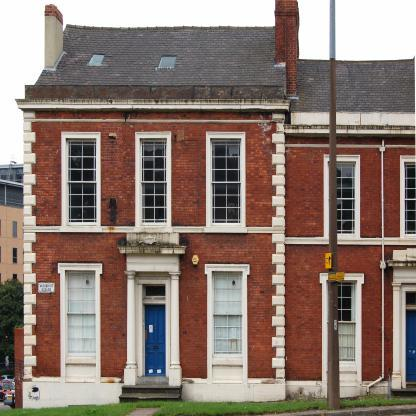Building Outline: (15, 0, 416, 409)
Cornice: (117, 246, 187, 254), (386, 260, 416, 268)
Deco: (38, 282, 55, 293)
Door: (144, 304, 166, 376), (405, 309, 416, 382)
Facade: (45, 59, 415, 402)
Floor: (23, 131, 416, 248)
Floor Slab: (23, 125, 416, 131), (23, 248, 416, 254)
Ground Floor: (23, 255, 416, 386)
Pillar: (168, 271, 182, 386), (124, 271, 137, 385)
Top Floor: (24, 23, 416, 125), (25, 24, 415, 113)
Window: (66, 139, 98, 225), (211, 139, 241, 225), (214, 273, 243, 355), (328, 281, 357, 363), (67, 273, 96, 355), (141, 139, 167, 225), (328, 161, 356, 234), (405, 163, 416, 236), (145, 284, 166, 298), (157, 56, 177, 67), (89, 54, 105, 63), (405, 292, 416, 305)
